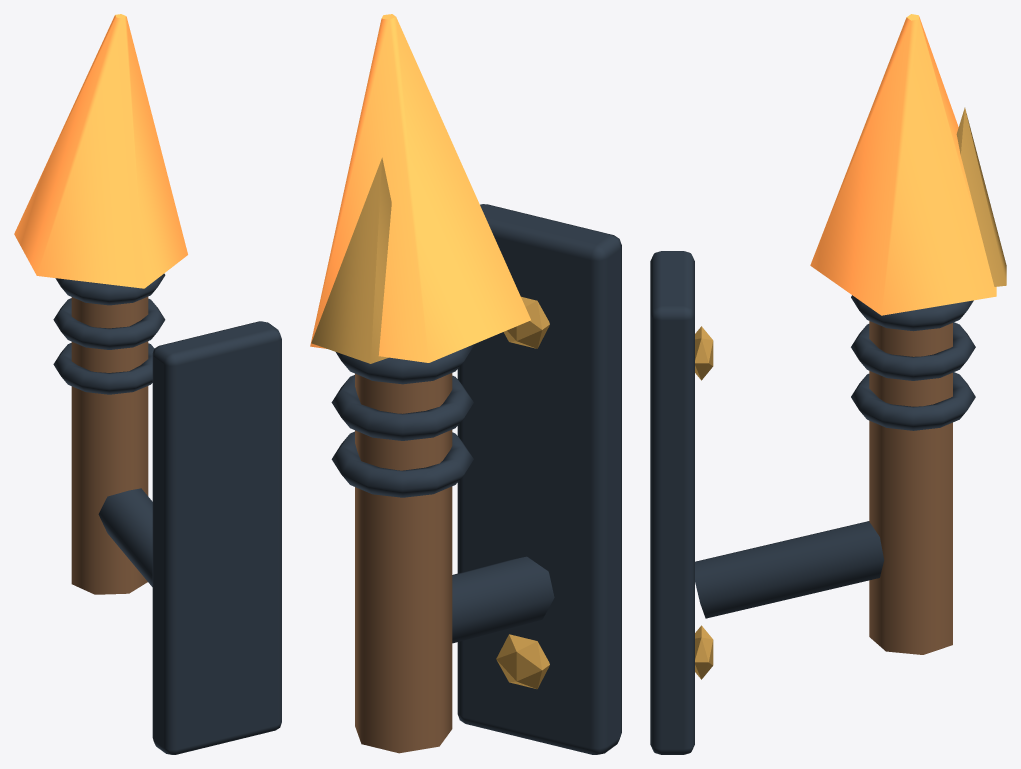
File: wall-torch.glb
3 renders of one model, left to right at view 1: azimuth 30°, elevation 25°; view 2: azimuth 150°, elevation 25°; view 3: azimuth 270°, elevation 25°, orthographic. The views are drawn at different scales.
Visible parts, largest first — view 1: mounting-plate, outer-flame, wooden-shaft, bracket, binding-0.61, binding-0.53, binding-0.69; view 2: mounting-plate, outer-flame, wooden-shaft, inner-flame, bracket, binding-0.53, binding-0.61, binding-0.69, plate-rivet-0.12, plate-rivet-0.6; view 3: outer-flame, mounting-plate, wooden-shaft, bracket, binding-0.53, binding-0.61, inner-flame, binding-0.69, plate-rivet-0.12, plate-rivet-0.6.
Boxes of the visible parts, box(x1,y1,x2,y2) form: mounting-plate: box(152, 321, 281, 754); outer-flame: box(14, 14, 187, 288); wooden-shaft: box(71, 296, 148, 594); bracket: box(98, 488, 152, 586); binding-0.61: box(53, 298, 165, 349); binding-0.53: box(53, 343, 154, 394); binding-0.69: box(55, 273, 165, 305); mounting-plate: box(457, 204, 621, 754); outer-flame: box(310, 14, 530, 362); wooden-shaft: box(355, 373, 452, 753); inner-flame: box(311, 157, 391, 363); bracket: box(452, 556, 554, 643); binding-0.53: box(331, 431, 473, 497); binding-0.61: box(331, 375, 473, 440); binding-0.69: box(336, 345, 473, 384); plate-rivet-0.12: box(496, 634, 549, 689); plate-rivet-0.6: box(503, 296, 549, 348); outer-flame: box(810, 14, 996, 315); mounting-plate: box(650, 251, 694, 754); wooden-shaft: box(869, 321, 952, 654); bracket: box(695, 521, 884, 618); binding-0.53: box(851, 372, 975, 430); binding-0.61: box(851, 322, 975, 380); inner-flame: box(956, 107, 1006, 286); binding-0.69: box(851, 295, 973, 331); plate-rivet-0.12: box(695, 625, 713, 679); plate-rivet-0.6: box(695, 326, 713, 380).
Bounding box in the file's own units: 0.2839 × 1.15 × 0.5182.
